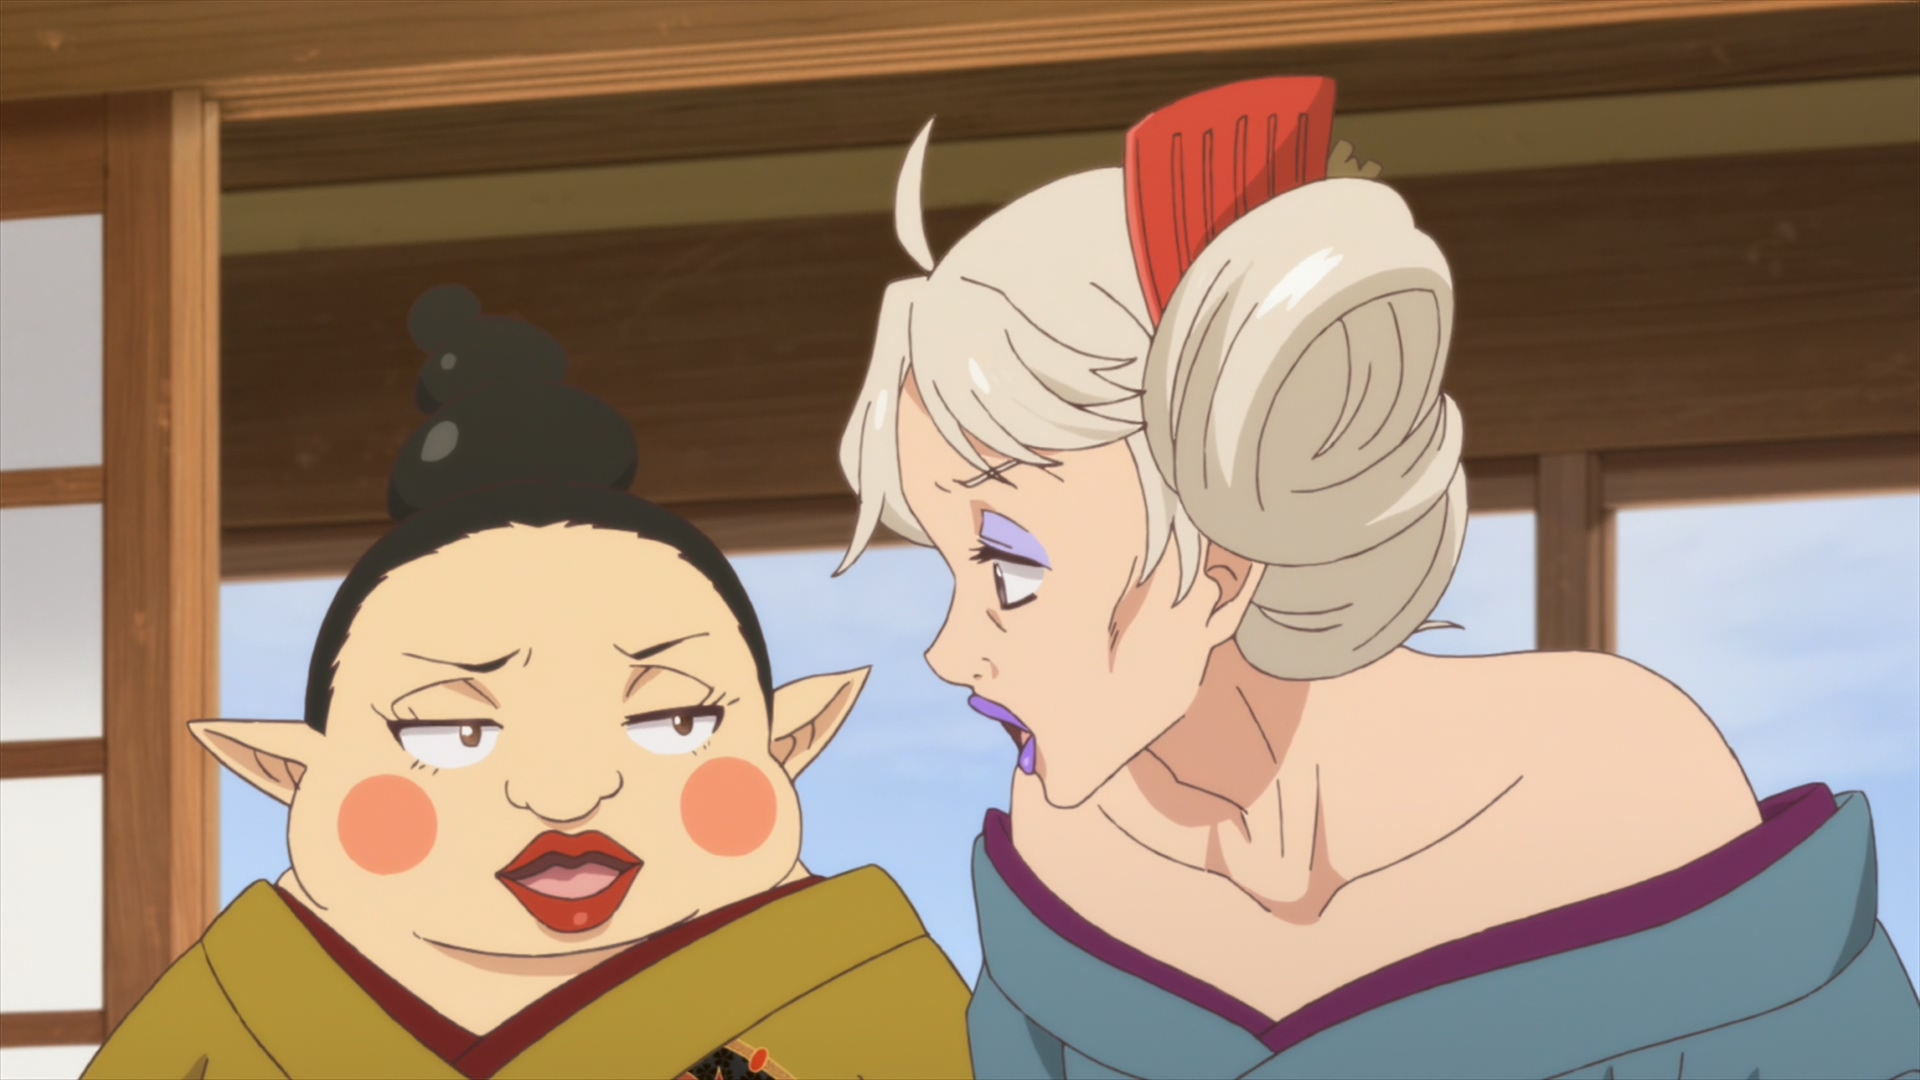其他: (831, 74, 1920, 1080), (80, 287, 972, 1080)
